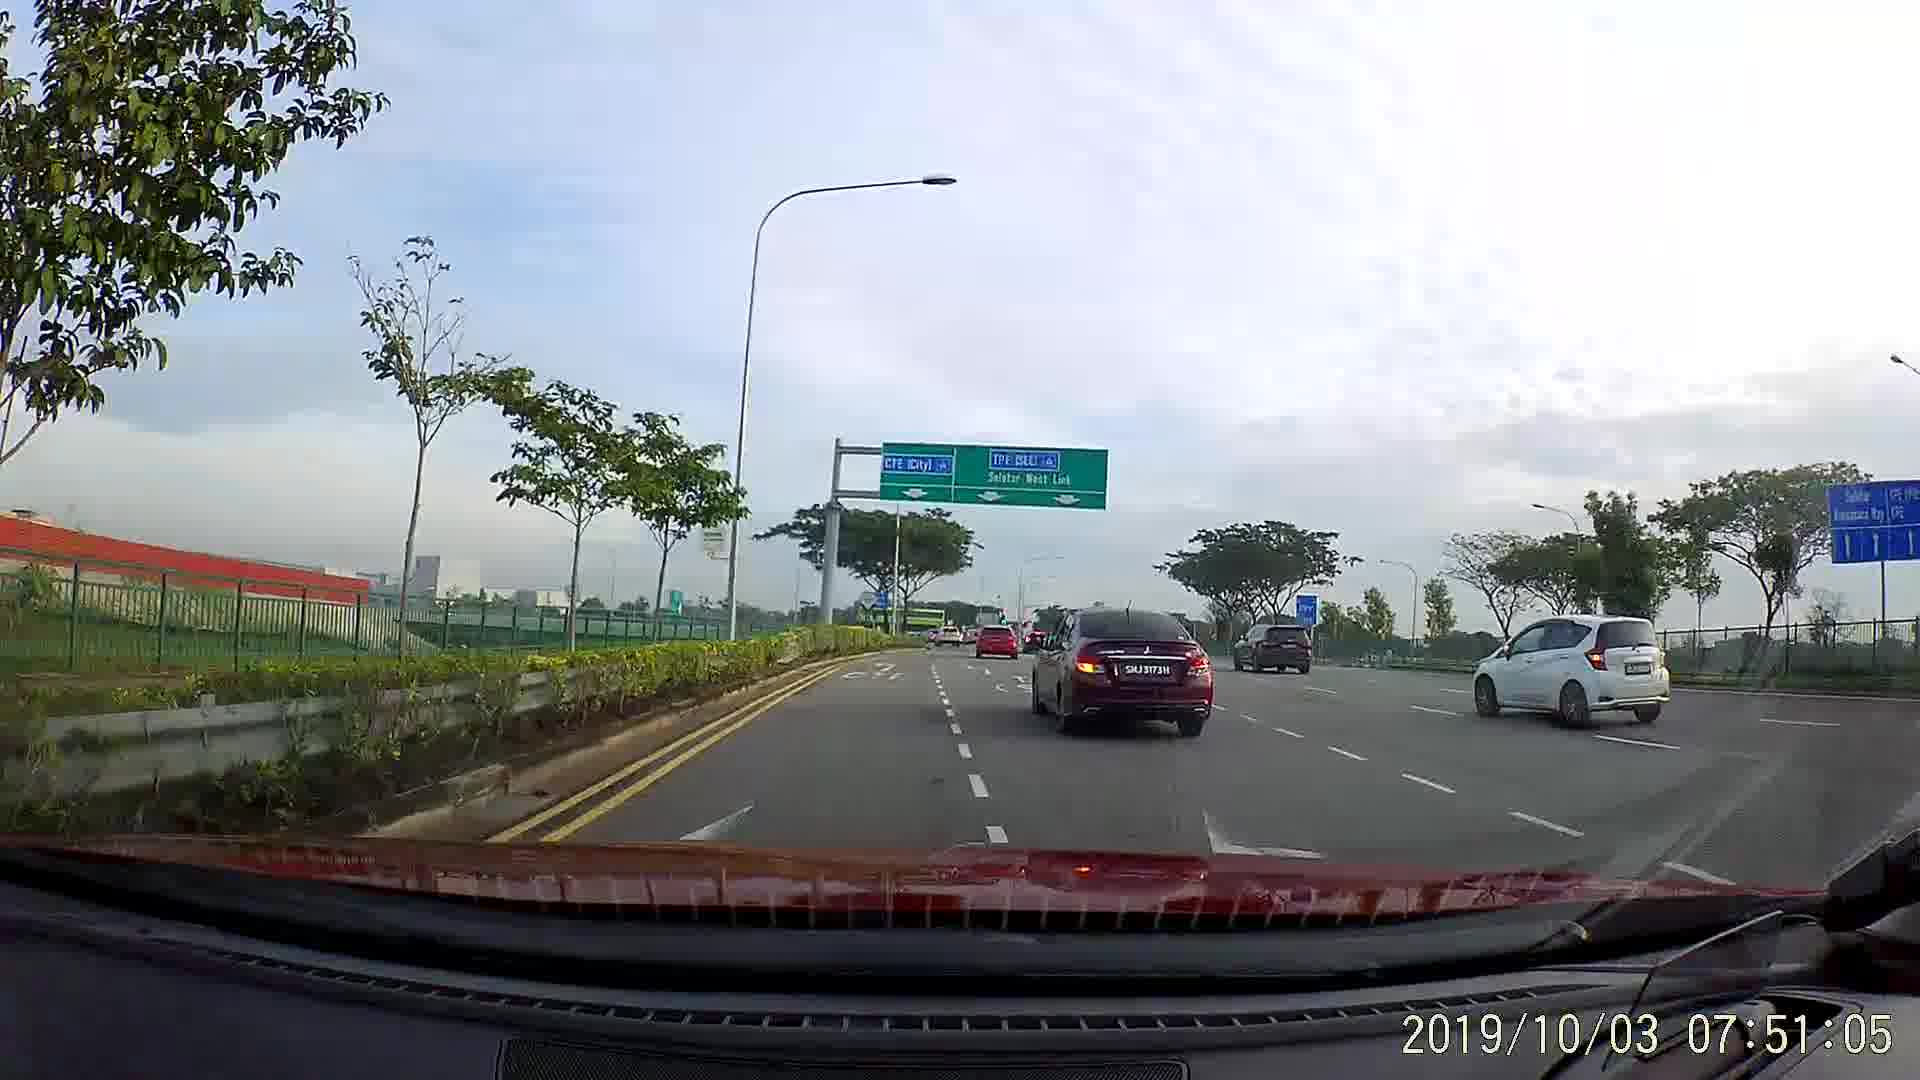car: (1027, 607, 1211, 741), (1466, 612, 1669, 727), (1229, 621, 1311, 675), (972, 620, 1019, 659), (928, 620, 965, 647)
